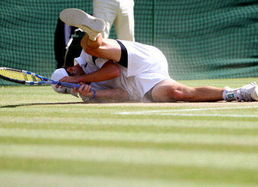fall: (55, 6, 256, 105)
